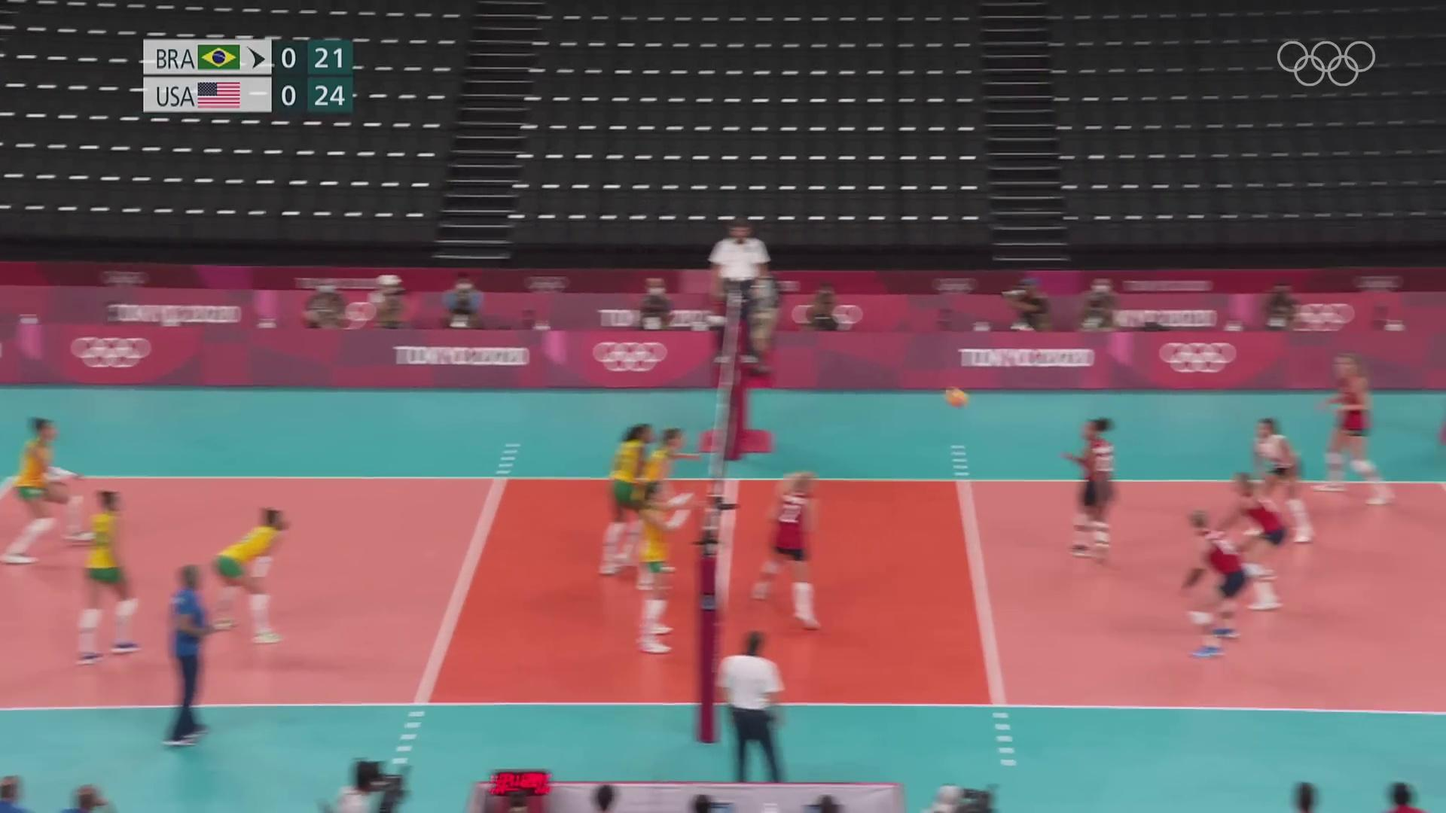player: (6, 411, 97, 566), (70, 484, 139, 666), (1210, 472, 1290, 620), (208, 507, 291, 647), (1177, 509, 1256, 655), (628, 478, 691, 657), (750, 470, 819, 632), (1235, 413, 1317, 549), (1321, 352, 1390, 505), (636, 420, 697, 593), (1058, 411, 1122, 566), (600, 412, 656, 578)
refree: (714, 633, 785, 791), (701, 220, 768, 373)
